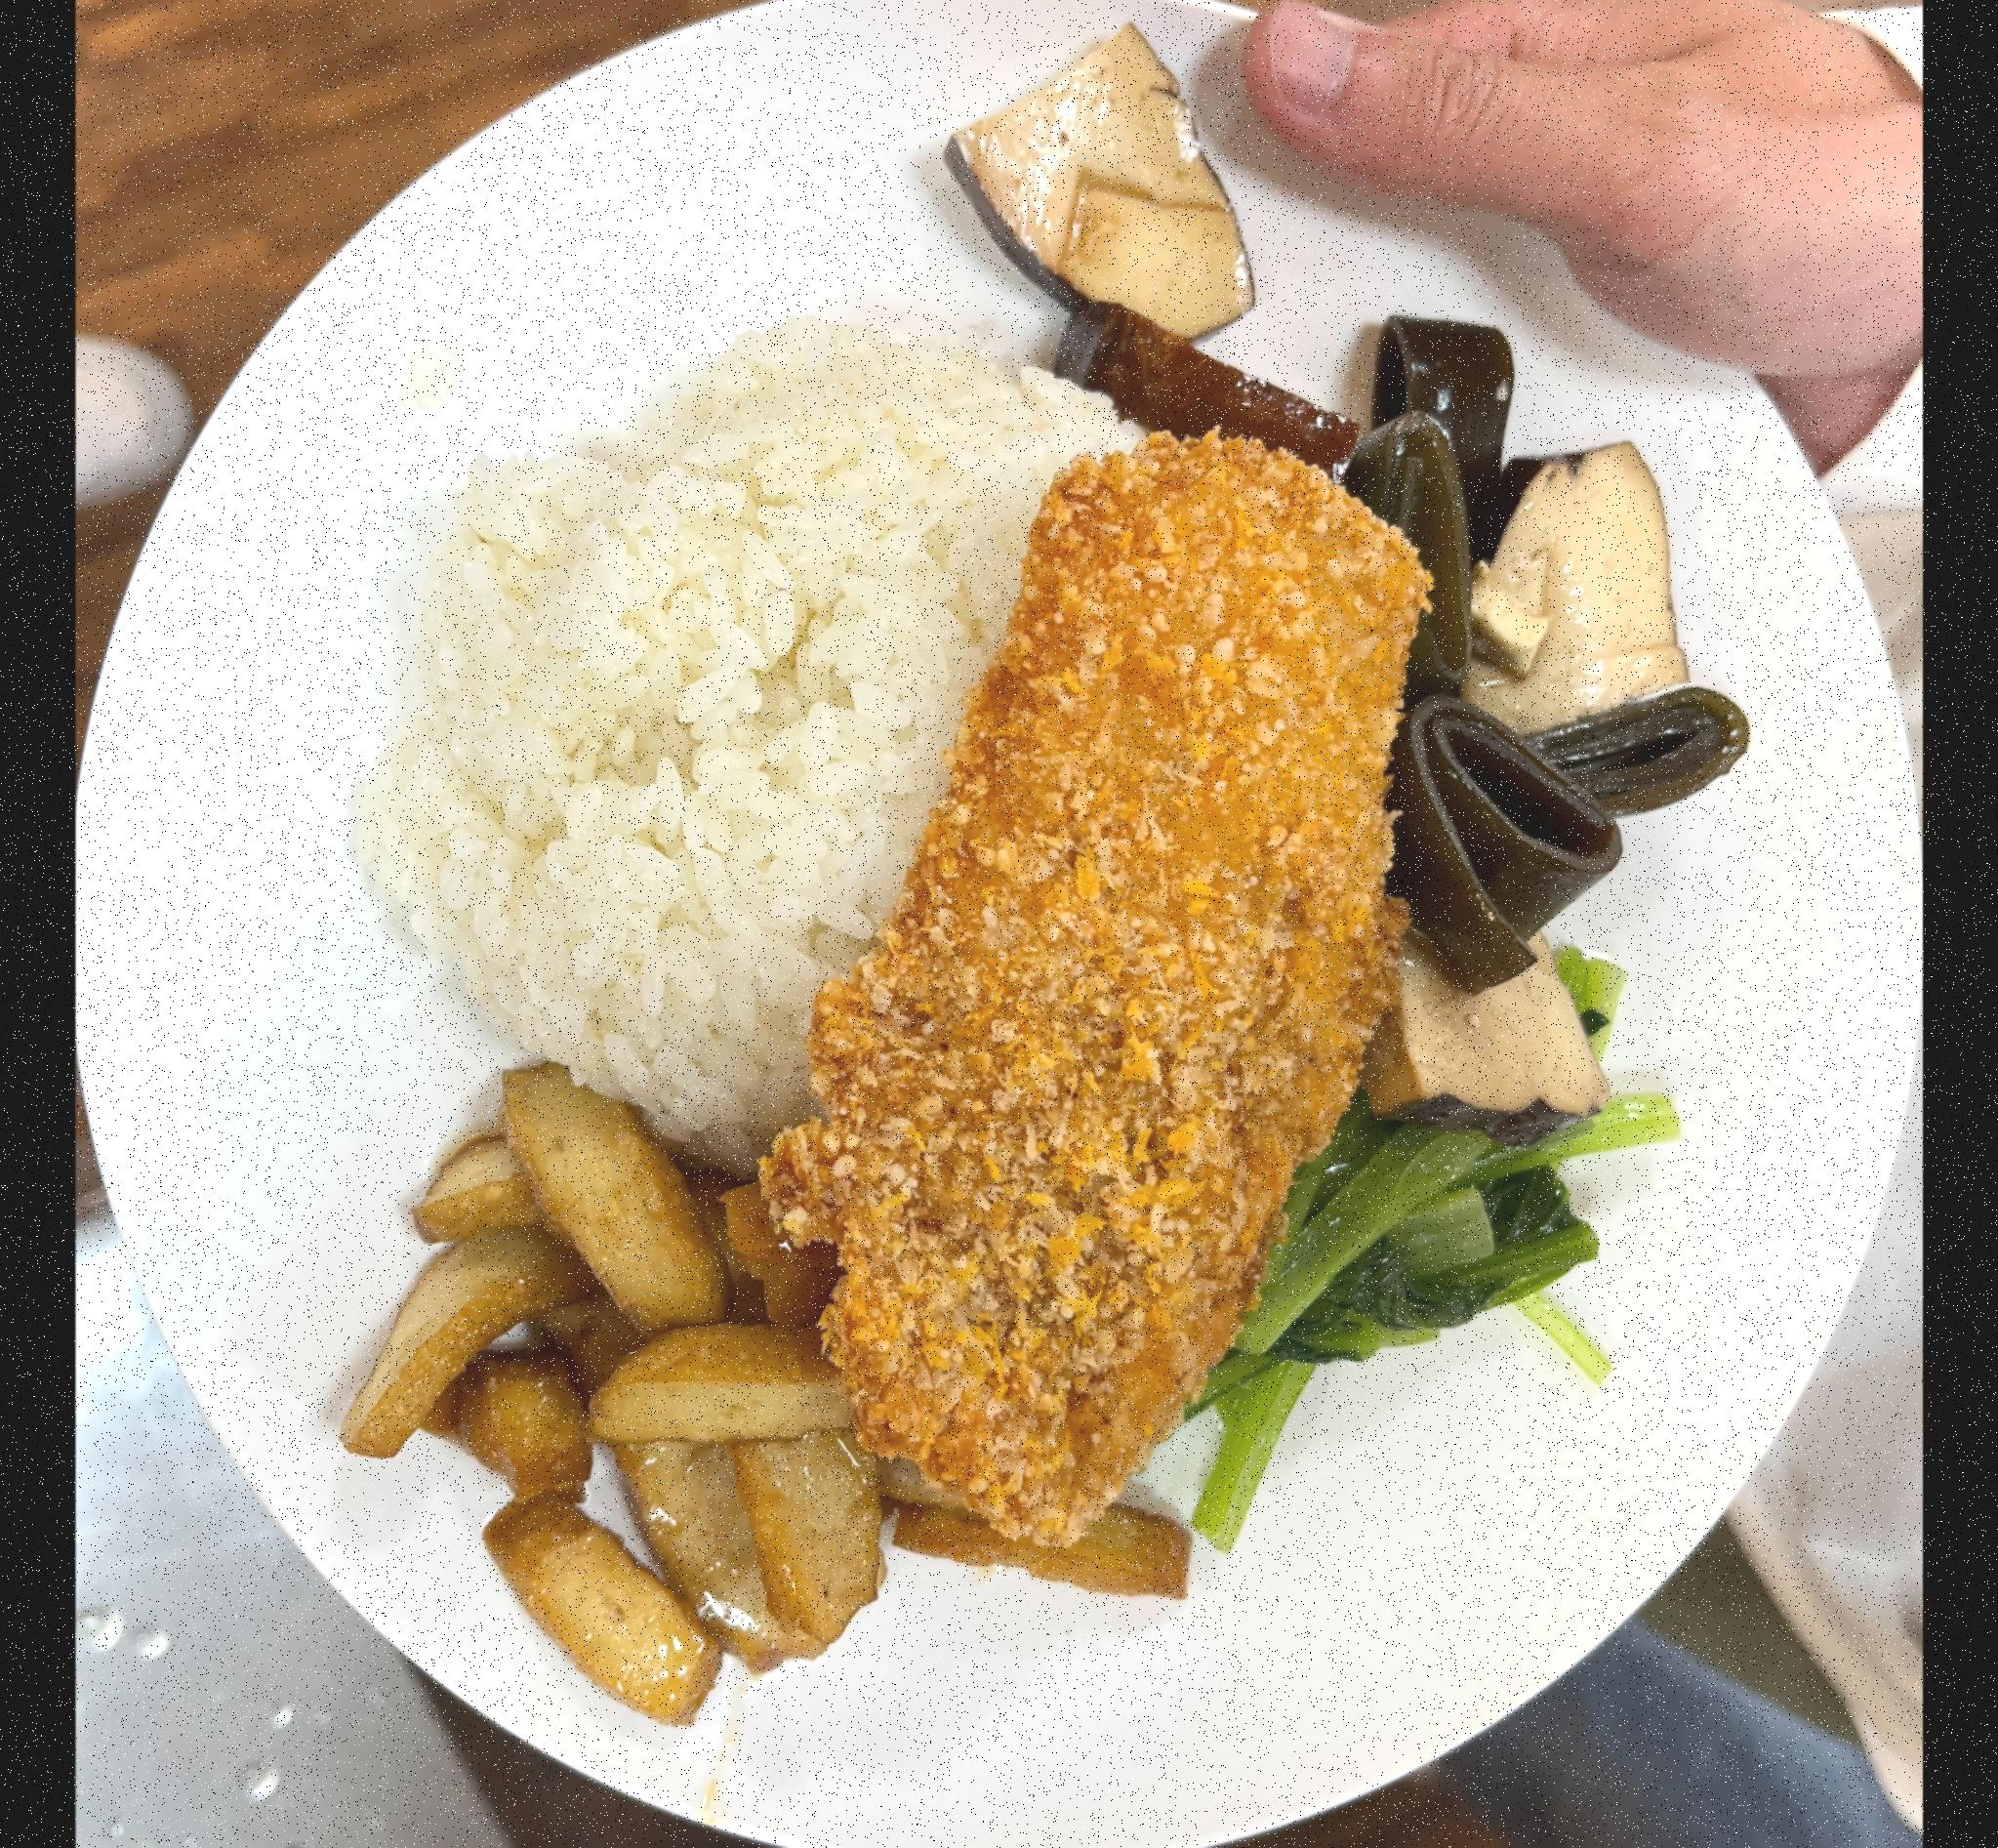chicken steak: (736, 414, 1443, 1561)
plate: (89, 0, 1904, 1848)
side dish: (940, 33, 1742, 1093), (278, 1060, 926, 1698), (1189, 922, 1650, 1528)
white rice: (320, 296, 1058, 1142)
